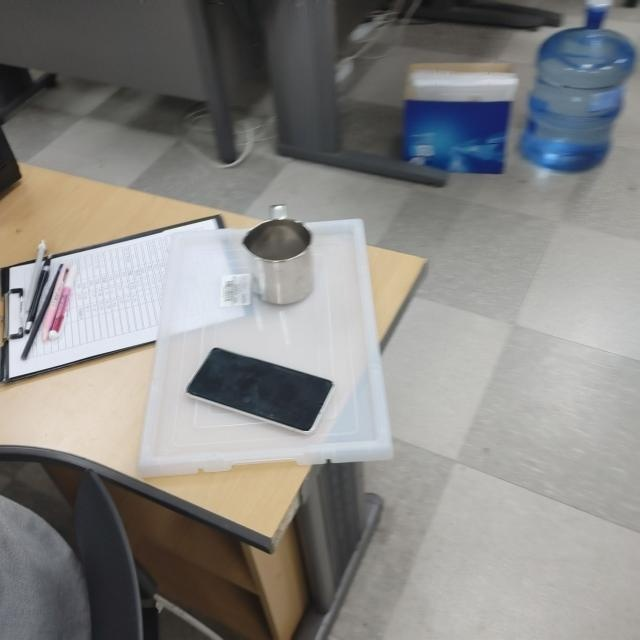cup: (240, 203, 317, 308)
phone: (185, 345, 335, 437)
